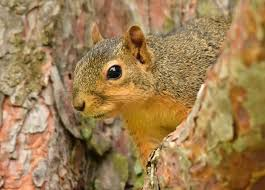squirrel: (70, 25, 186, 126)
